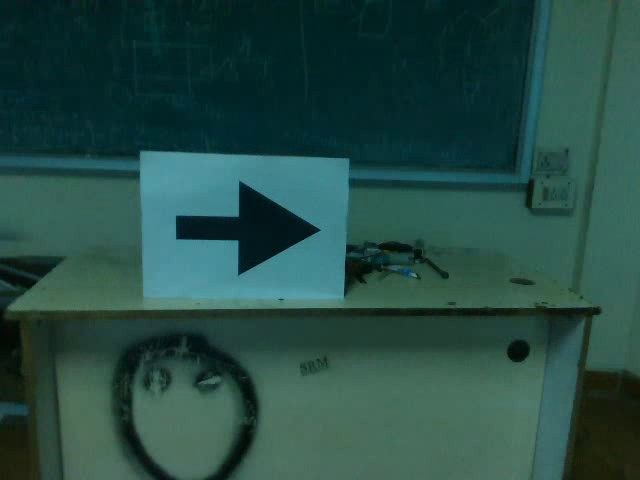Right: (165, 174, 327, 280)
